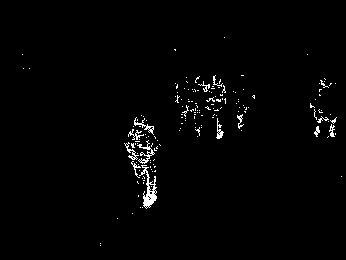person: (124, 114, 160, 209), (204, 74, 226, 138)
